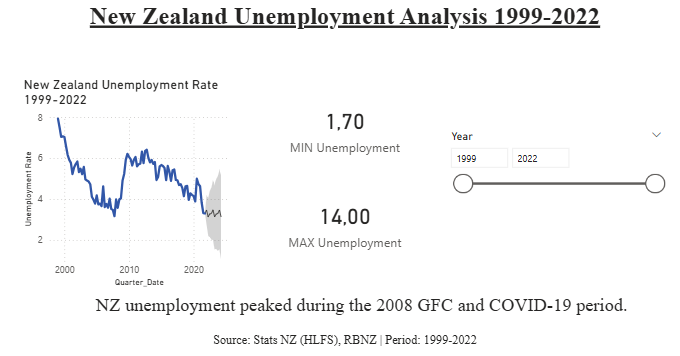

Layout of this report page (visuals, bound fields, positions):
{"tool":"powerbi","page":{"name":"Overview","canvas":[1280,720],"ordinal":0},"visuals":[{"type":"lineChart","title":"New Zealand Unemployment Rate 1999-2022","fields":{"Category":["cleaned_unemployed_data.Quarter_Date"],"Y":["cleaned_unemployed_data.Unemployment Rate"]},"box":[176.4,295.6,280.9,279.3],"z":0},{"type":"card","fields":{"Values":["cleaned_unemployed_data.MAX Unemployment"]},"box":[497.1,436.4,209,101.3],"z":1},{"type":"card","fields":{"Values":["cleaned_unemployed_data.MIN Unemployment"]},"box":[511.8,312.2,179.6,101.3],"z":2},{"type":"textbox","box":[259.7,156.8,682.6,120.8],"z":3},{"type":"textbox","box":[364.2,625.5,473.6,45.7],"z":4},{"type":"slicer","fields":{"Values":["DateTable.Year"]},"box":[726.7,359.3,300.5,150.2],"z":5},{"type":"textbox","box":[259.7,574.8,726.7,45.7],"z":6}]}

Visuals, with their boxes on the page's 1280x720 design canvas (x1, y1, x2, y2). These are canvas units, not pixel positions in the 680x356 screenshot, which may show the page scaled, cropped or inside an application window:
"New Zealand Unemployment Rate 1999-2022" lineChart: l=176, t=296, r=457, b=575
card - cleaned_unemployed_data.MAX Unemployment: l=497, t=436, r=706, b=538
card - cleaned_unemployed_data.MIN Unemployment: l=512, t=312, r=691, b=414
textbox: l=260, t=157, r=942, b=278
textbox: l=364, t=626, r=838, b=671
slicer - DateTable.Year: l=727, t=359, r=1027, b=510
textbox: l=260, t=575, r=986, b=620
